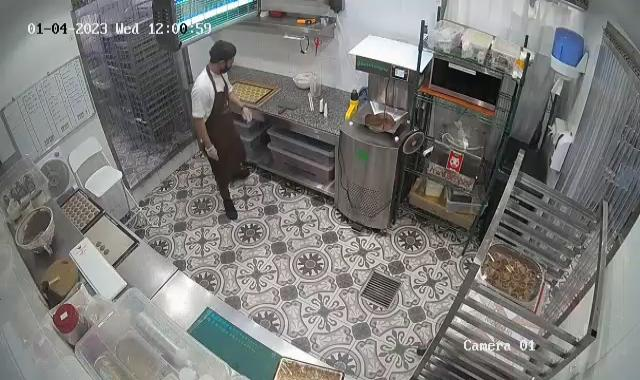no_hairnet: (205, 39, 238, 67)
